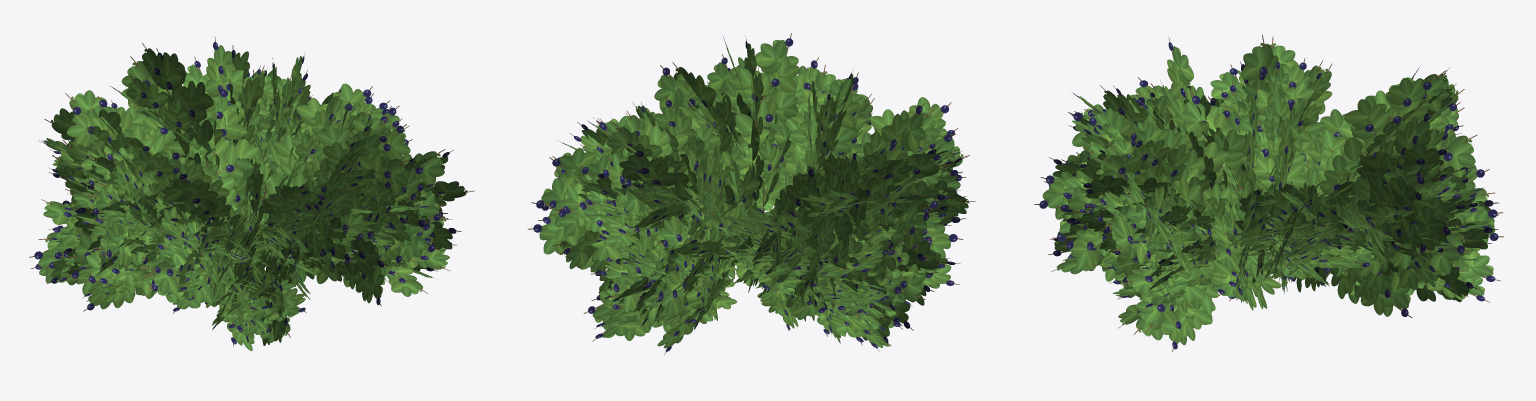
The model's file is bilberry_low_v01_LOD1.glb.
The picture shows the model from 3 angles, left to right: view 1: azimuth 30°, elevation 25°; view 2: azimuth 150°, elevation 25°; view 3: azimuth 270°, elevation 25°; orthographic projection. The views are drawn at different scales.
Visible parts, largest first — view 1: bilberry_low_v01_LOD1; view 2: bilberry_low_v01_LOD1; view 3: bilberry_low_v01_LOD1.
Boxes of the visible parts, <box> form: bilberry_low_v01_LOD1: <box>29,37,474,351</box>; bilberry_low_v01_LOD1: <box>527,33,975,354</box>; bilberry_low_v01_LOD1: <box>1034,34,1503,351</box>.
Bounding box in the file's own units: 0.588 × 0.38 × 0.6137.
2 materials, 2 textured.
